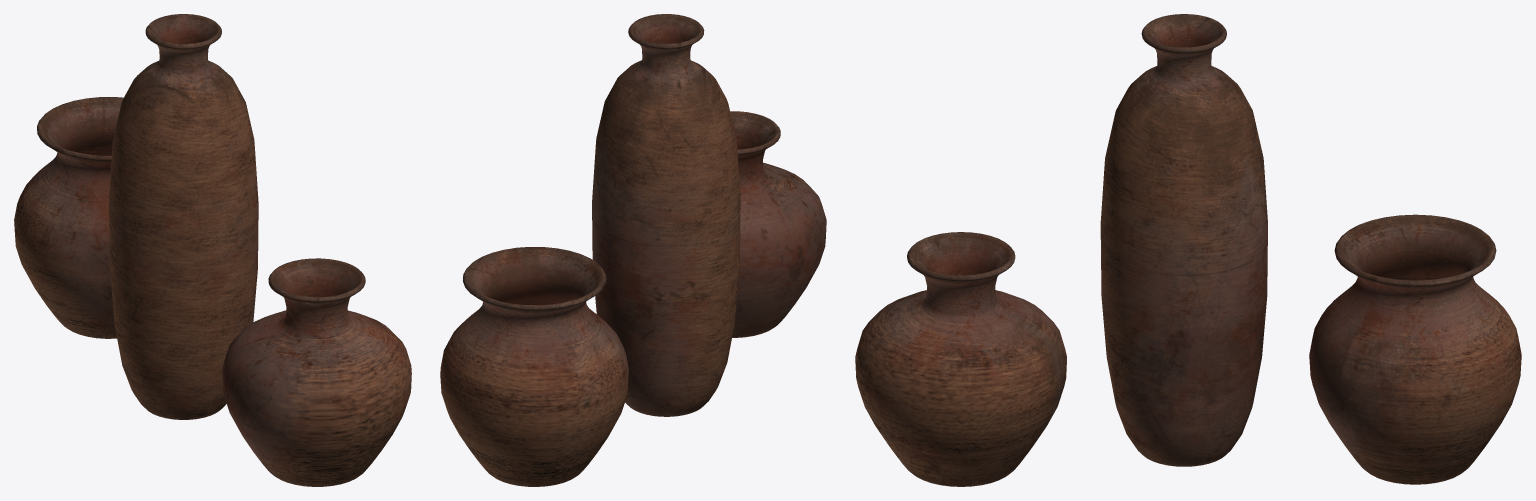
Rendered from antique_ceramic_pottery.glb.
3 views of the same model, side by side, from view 1: azimuth 30°, elevation 25°; view 2: azimuth 150°, elevation 25°; view 3: azimuth 270°, elevation 25° (orthographic). The views are drawn at different scales.
Visible parts, largest first — view 1: Cylinder.003; view 2: Cylinder.003; view 3: Cylinder.003.
Boxes of the visible parts, x1,y1,x2,y2 form: Cylinder.003: (14,14,411,486); Cylinder.003: (440,14,826,486); Cylinder.003: (855,14,1521,486).
Bounding box in the file's own units: 2.42 × 4.8 × 6.94.
Materials: 1 (1 with a texture image).
